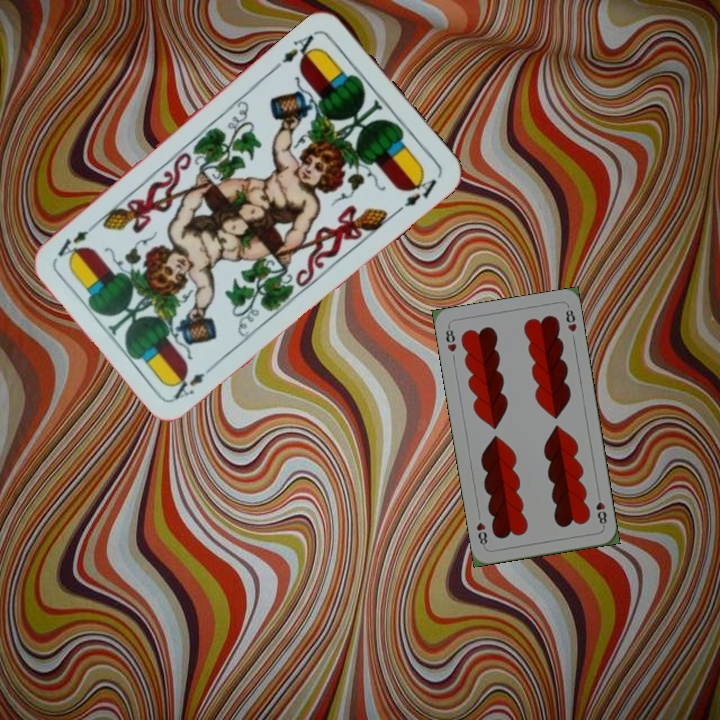EA: (167, 359, 219, 403), (277, 27, 321, 68)
H8: (592, 489, 609, 529), (442, 322, 459, 355)
